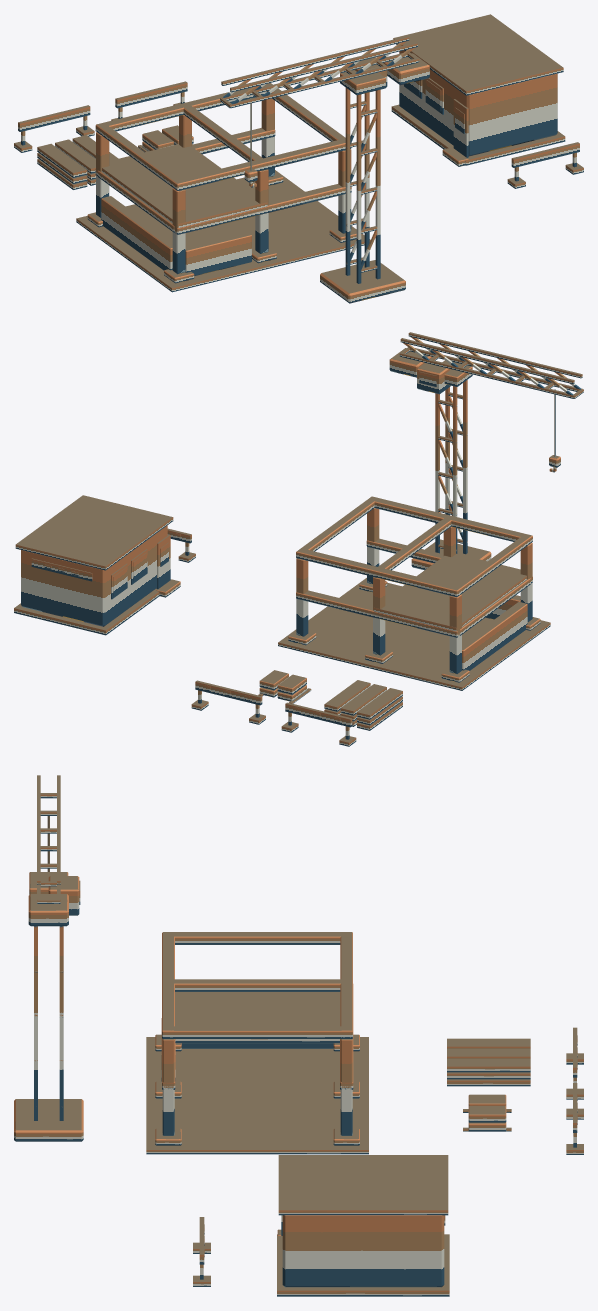
Rendered from campus_construction_decor_v01.glb.
The picture shows the model from 3 angles, top to bottom: view 1: azimuth 30°, elevation 25°; view 2: azimuth 150°, elevation 25°; view 3: azimuth 270°, elevation 25°; orthographic projection. The views are drawn at different scales.
Parts seen in each view (by area): view 1: Construction district decor; view 2: Construction district decor; view 3: Construction district decor.
Boxes of the visible parts, x1=… form: Construction district decor: x1=14, y1=14, x2=583, y2=303; Construction district decor: x1=14, y1=332, x2=583, y2=746; Construction district decor: x1=14, y1=775, x2=583, y2=1296.
Bounding box in the file's own units: 21.7 × 10.83 × 20.47.
Materials: 1 (1 with a texture image).
